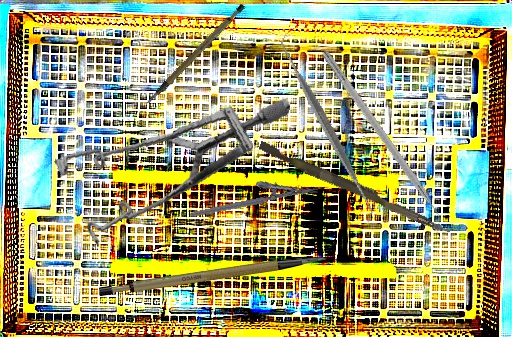Chopper: (311, 49, 452, 238)
Needle Holder: (186, 169, 320, 219)
Pusher: (256, 140, 454, 236)
Scalpel Handle: (130, 1, 258, 106), (99, 255, 328, 299)
Spatula Surgical: (230, 32, 424, 224)
Speculum: (42, 63, 292, 271)
